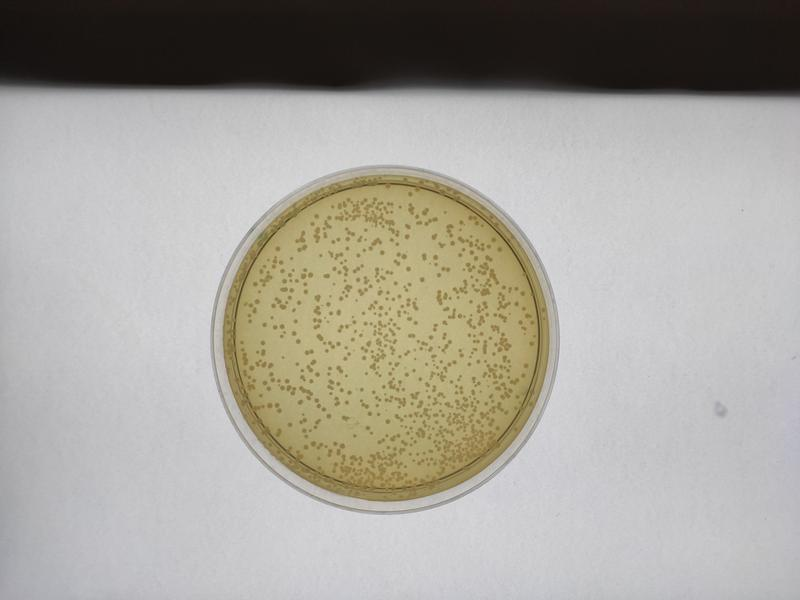colony: (415, 271, 428, 286), (290, 357, 302, 371), (348, 429, 360, 442), (271, 242, 283, 255)
